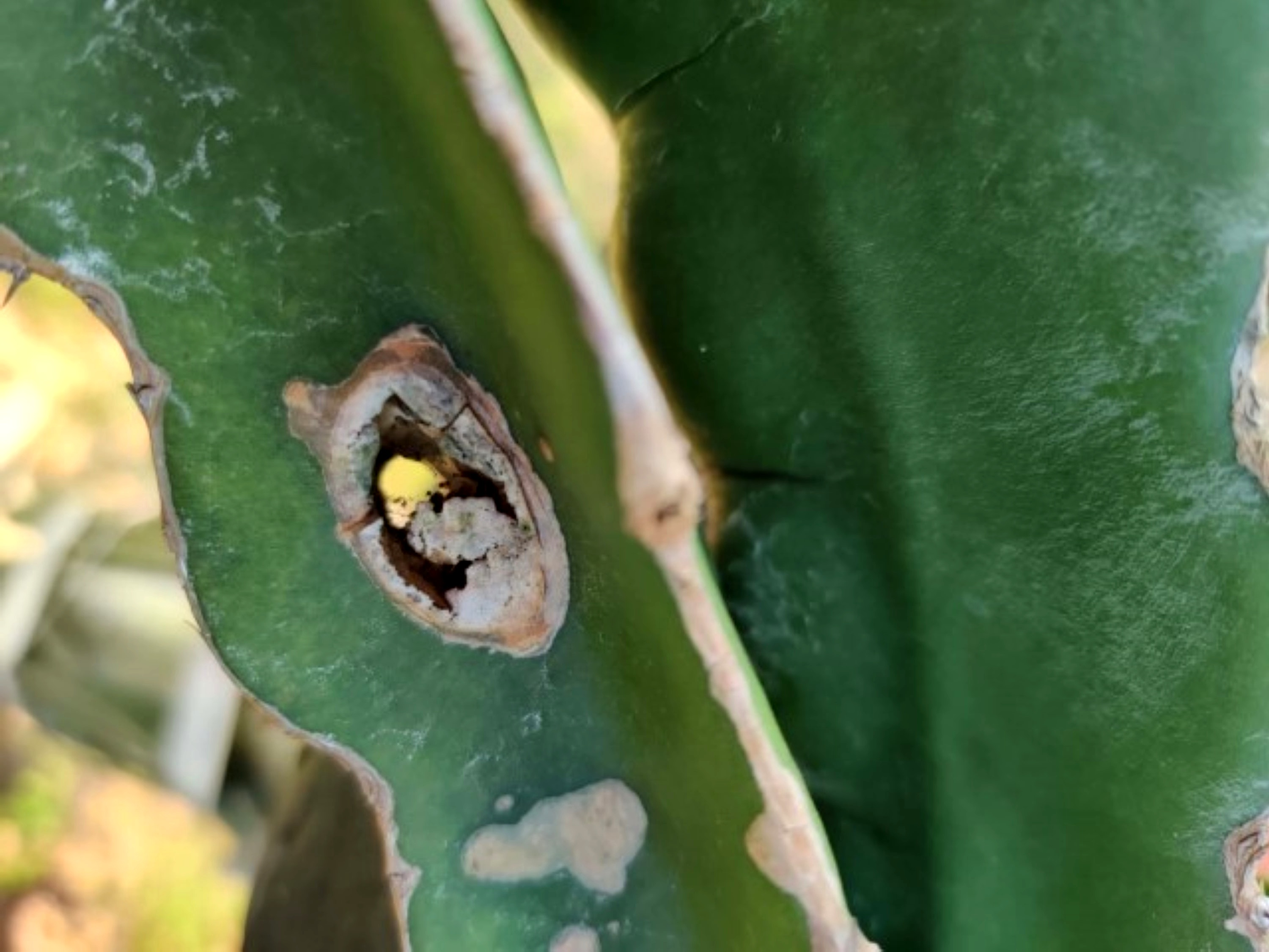stemcanker: (212, 243, 681, 944)
